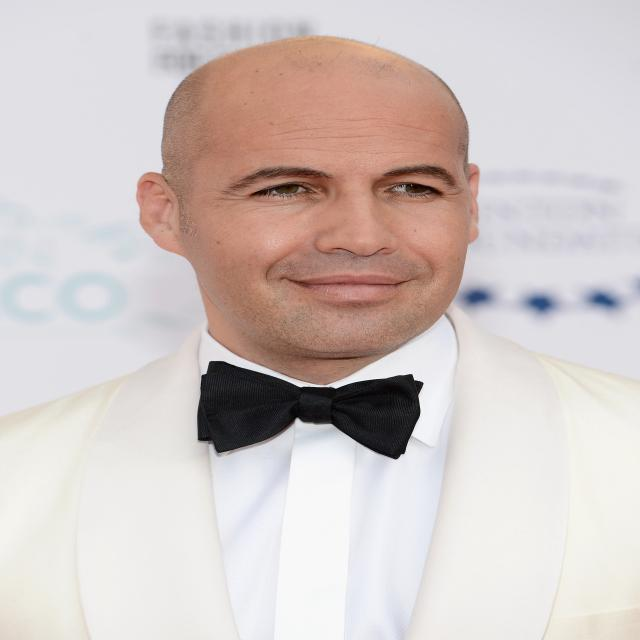bald: (101, 22, 501, 182)
